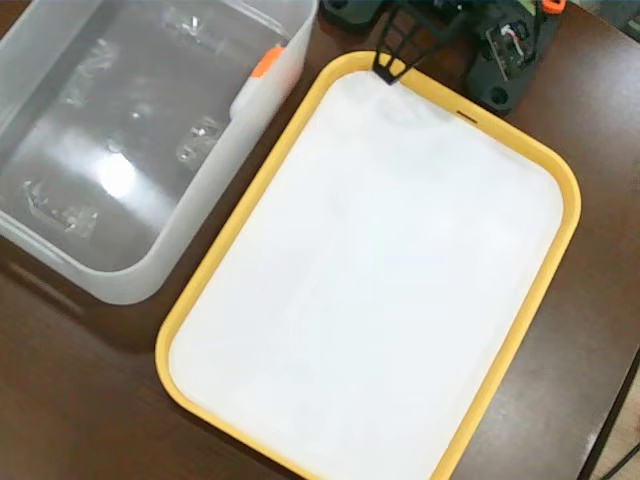pill: (233, 45, 294, 127)
